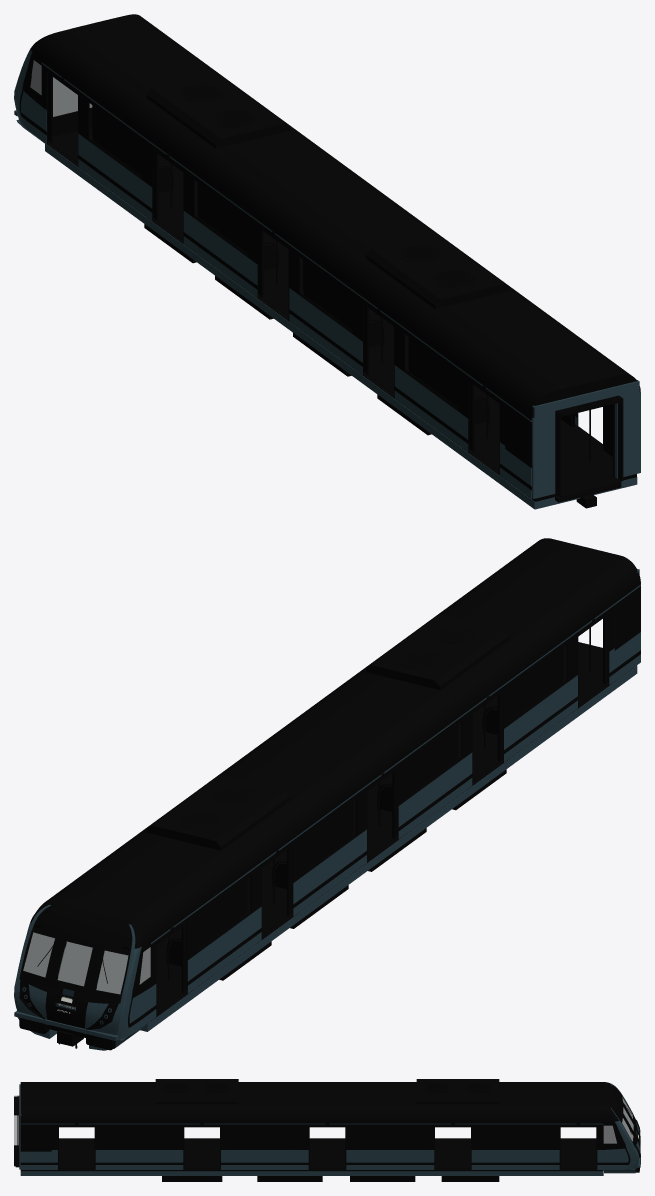
File: cab.obj
3 renders of one model, top to bottom at view 1: azimuth 30°, elevation 25°; view 2: azimuth 150°, elevation 25°; view 3: azimuth 270°, elevation 25°, orthographic. The views are drawn at different scales.
Visible parts, largest first — view 1: shell, interior, window; view 2: shell, interior, window, cab_glazing; view 3: shell, interior, window, cab_glazing.
Part boxes in pixels (box(x1,y1,x2,y2)): shell: box(14, 14, 640, 509); interior: box(30, 73, 636, 501); window: box(53, 77, 486, 424); shell: box(14, 538, 640, 1050); interior: box(22, 615, 636, 1037); window: box(58, 647, 563, 994); cab_glazing: box(23, 932, 150, 994); shell: box(14, 1079, 640, 1181); interior: box(14, 1096, 634, 1171); window: box(107, 1127, 547, 1148); cab_glazing: box(603, 1097, 633, 1143).
Size of the model in its own units: 3 by 3.64 by 24.99.
